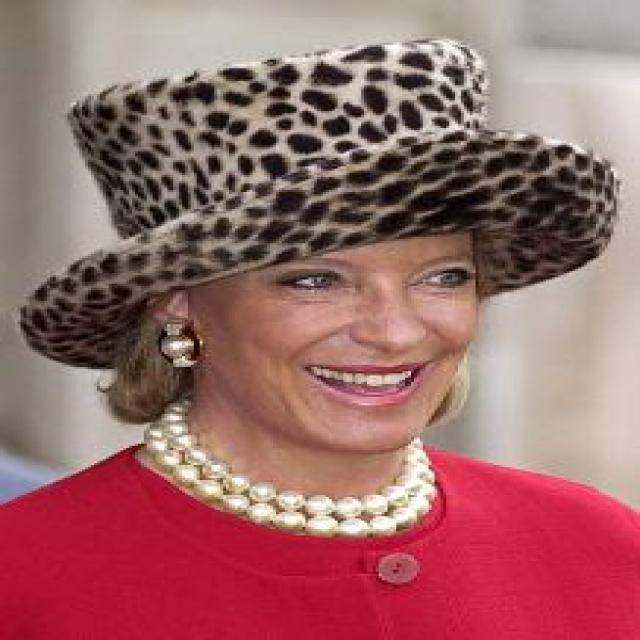Earring: (150, 306, 213, 371)
